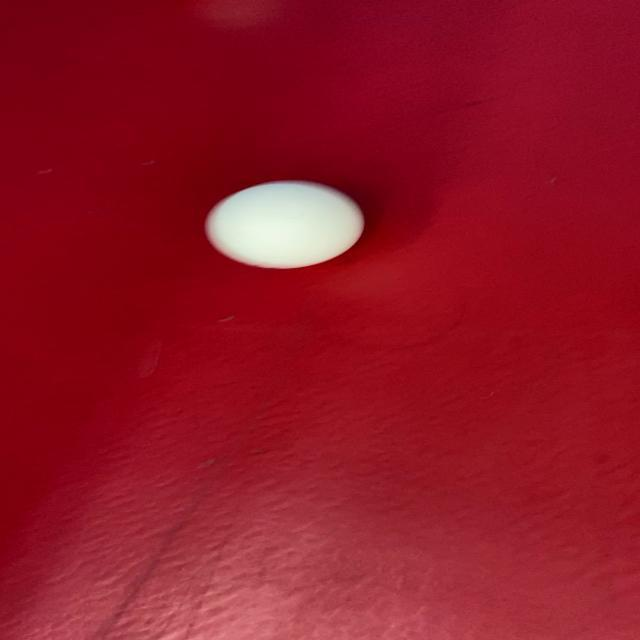ping-pong-ball: (192, 178, 381, 276)
